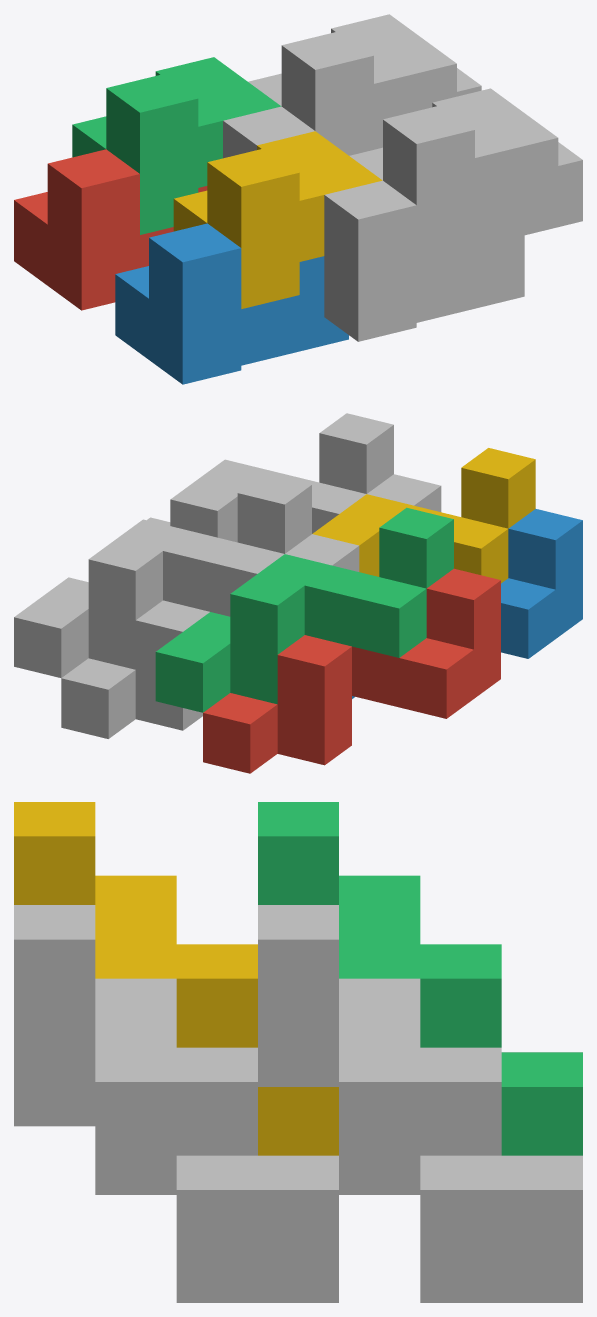
File: tiling.obj
3 renders of one model, top to bottom at view 1: azimuth 30°, elevation 25°; view 2: azimuth 150°, elevation 25°; view 3: azimuth 270°, elevation 25°, orthographic. The views are drawn at different scales.
Parts seen in each view (by area): view 1: copy_1_domain_8, copy_1_domain_2, copy_1_domain_6, copy_1_domain_4, copy_1_domain_7, copy_1_domain_3, copy_1_domain_1, copy_1_domain_5; view 2: copy_1_domain_3, copy_1_domain_1, copy_1_domain_7, copy_1_domain_4, copy_1_domain_5, copy_1_domain_8, copy_1_domain_2, copy_1_domain_6; view 3: copy_1_domain_8, copy_1_domain_7, copy_1_domain_3, copy_1_domain_4, copy_1_domain_6, copy_1_domain_5.
Boxes of the visible parts, x1,y1,x2,y2 form: copy_1_domain_8: [349, 88, 582, 266]; copy_1_domain_2: [115, 223, 348, 384]; copy_1_domain_6: [324, 180, 524, 341]; copy_1_domain_4: [173, 131, 382, 308]; copy_1_domain_7: [248, 14, 481, 155]; copy_1_domain_3: [72, 57, 281, 234]; copy_1_domain_1: [14, 149, 207, 310]; copy_1_domain_5: [223, 106, 382, 158]; copy_1_domain_3: [155, 507, 453, 712]; copy_1_domain_1: [203, 568, 500, 773]; copy_1_domain_7: [14, 473, 311, 677]; copy_1_domain_4: [312, 448, 535, 583]; copy_1_domain_5: [61, 534, 359, 738]; copy_1_domain_8: [147, 413, 393, 542]; copy_1_domain_2: [352, 509, 582, 698]; copy_1_domain_6: [367, 474, 441, 511]; copy_1_domain_8: [14, 905, 338, 1263]; copy_1_domain_7: [258, 905, 582, 1263]; copy_1_domain_3: [258, 802, 582, 1155]; copy_1_domain_4: [14, 802, 338, 1155]; copy_1_domain_6: [14, 1087, 338, 1302]; copy_1_domain_5: [339, 1155, 582, 1302].
Bounding box in the file's own units: 8 × 4 × 7.
